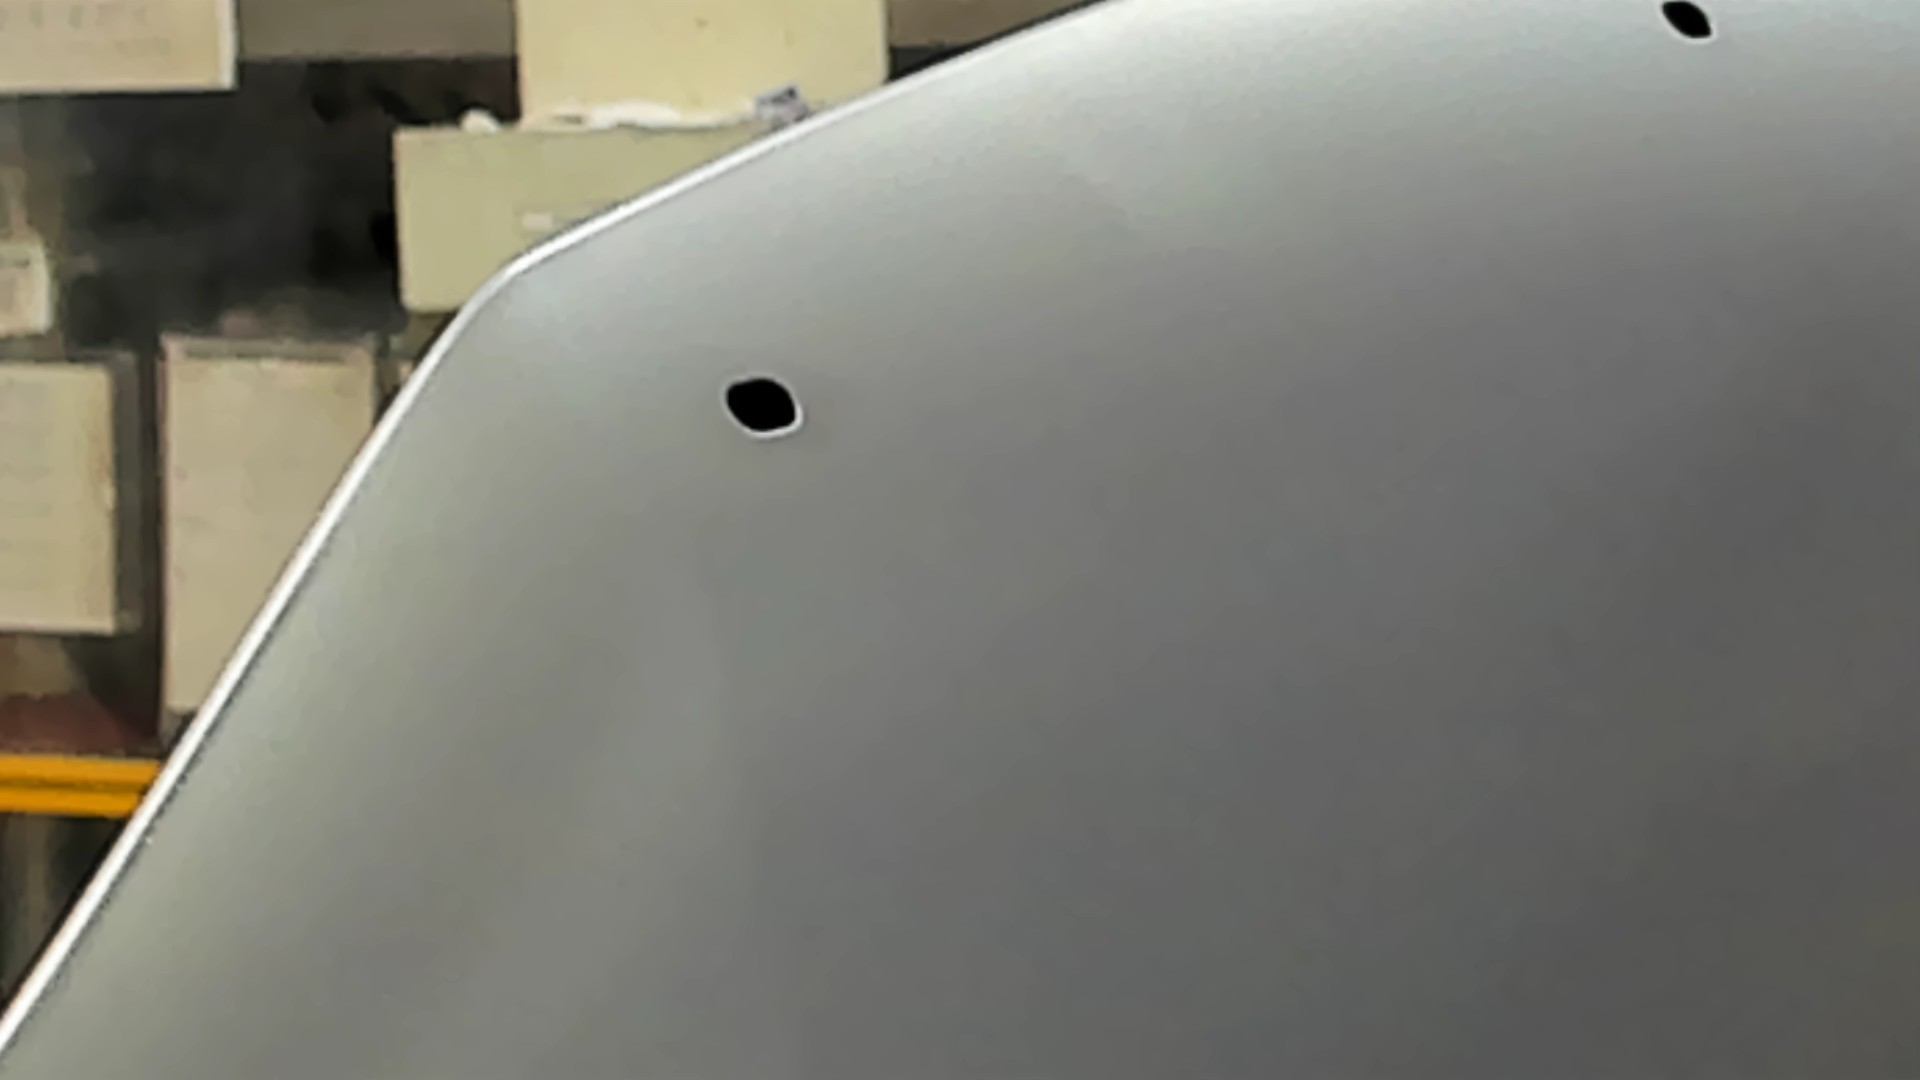amorfo: (716, 368, 807, 446), (1654, 1, 1725, 55)
